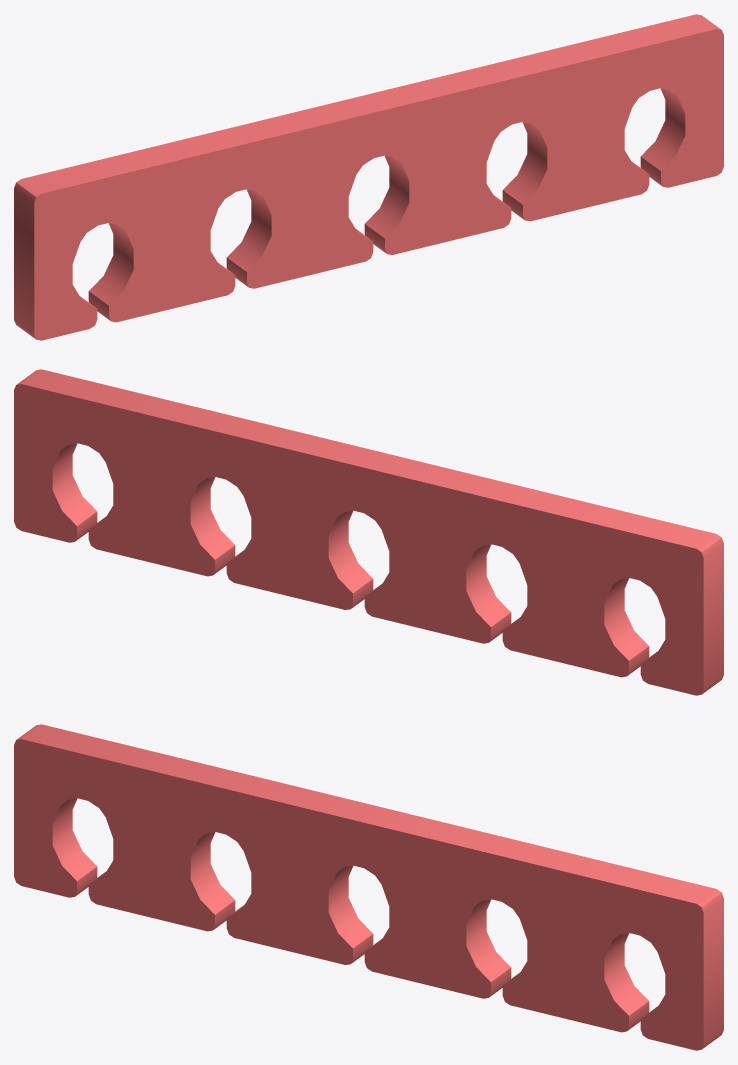
The model's file is makeup_tools_finger_seperat.glb.
3 renders of one model, top to bottom at view 1: azimuth 30°, elevation 25°; view 2: azimuth 150°, elevation 25°; view 3: azimuth 330°, elevation 25°, orthographic.
Parts seen in each view (by area): view 1: tools_finger_seperator.001; view 2: tools_finger_seperator.001; view 3: tools_finger_seperator.001.
Boxes of the visible parts, x1,y1,x2,y2 form: tools_finger_seperator.001: (14, 14, 723, 340); tools_finger_seperator.001: (14, 369, 723, 695); tools_finger_seperator.001: (14, 724, 723, 1050).
Bounding box in the file's own units: 23.07 × 4.7 × 1.17.
Materials: 1 (1 with a texture image).
